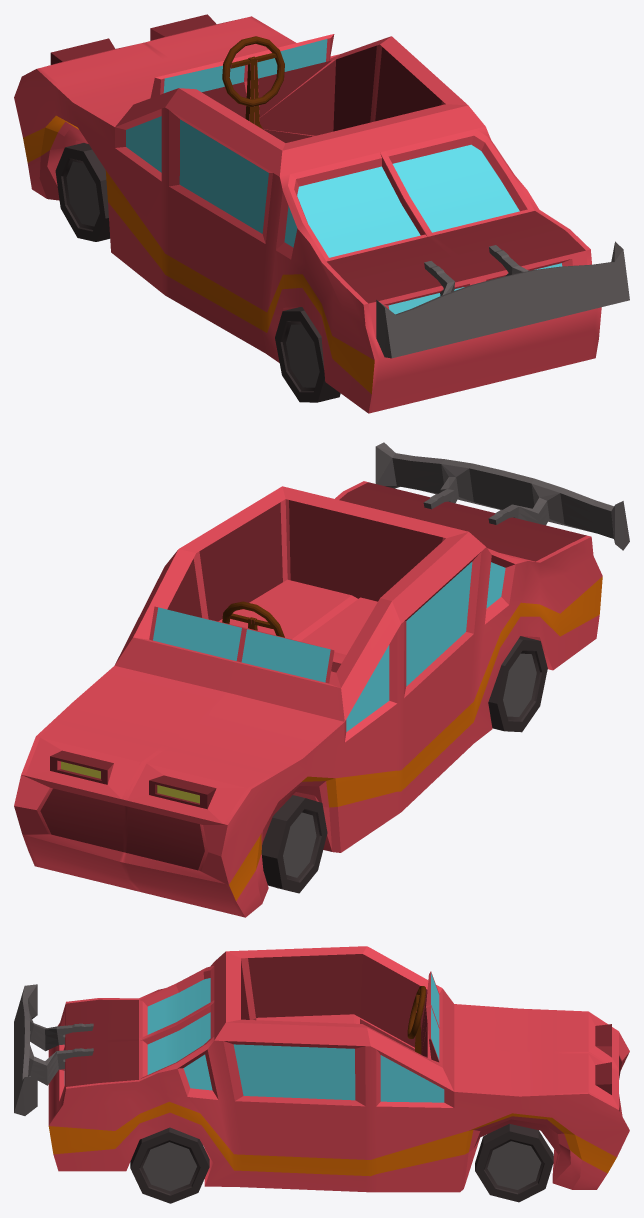
The model's file is car4.fbx.
3 renders of one model, top to bottom at view 1: azimuth 30°, elevation 25°; view 2: azimuth 150°, elevation 25°; view 3: azimuth 270°, elevation 25°, orthographic. The views are drawn at different scales.
Visible parts, largest first — view 1: car, bumper1, tyre_1, tyre_2, stering_whele; view 2: car, bumper1, tyre_1, tyre_2, stering_whele; view 3: car, tyre_3, tyre_4, bumper1, stering_whele.
Part boxes in pixels (left/top/right/bottom): car: left=14, top=14, right=601, bottom=413; bumper1: left=376, top=241, right=629, bottom=358; tyre_1: left=55, top=143, right=110, bottom=241; tyre_2: left=275, top=307, right=340, bottom=402; stering_whele: left=222, top=36, right=284, bottom=106; car: left=14, top=481, right=602, bottom=917; bumper1: left=375, top=442, right=629, bottom=550; tyre_1: left=261, top=795, right=327, bottom=893; tyre_2: left=488, top=636, right=547, bottom=732; stering_whele: left=222, top=601, right=284, bottom=637; car: left=48, top=946, right=629, bottom=1192; tyre_3: left=475, top=1124, right=553, bottom=1202; tyre_4: left=130, top=1127, right=209, bottom=1203; bumper1: left=14, top=984, right=93, bottom=1115; stering_whele: left=407, top=986, right=425, bottom=1038.
Bounding box in the file's own units: 548 × 486 × 1562.
